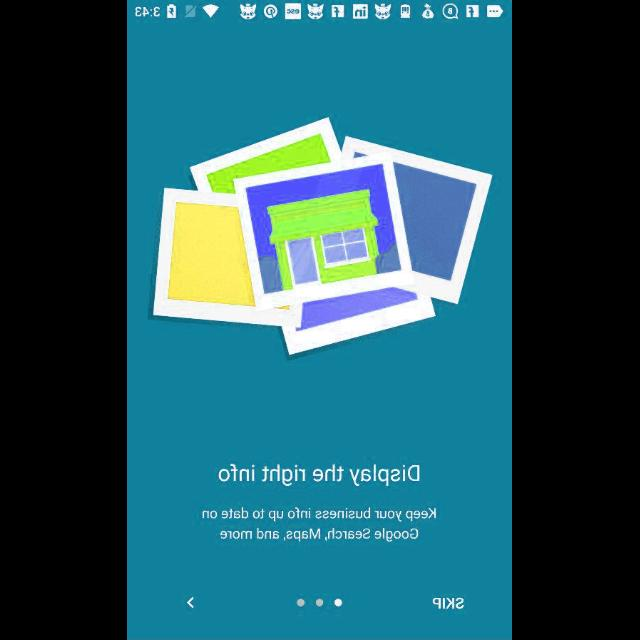icon: (188, 597, 196, 609)
image: (148, 116, 494, 360)
pageindicator: (296, 598, 344, 608)
text: (202, 506, 438, 544), (220, 463, 420, 487), (433, 596, 465, 610)
uppertaskbar: (128, 1, 512, 23)
